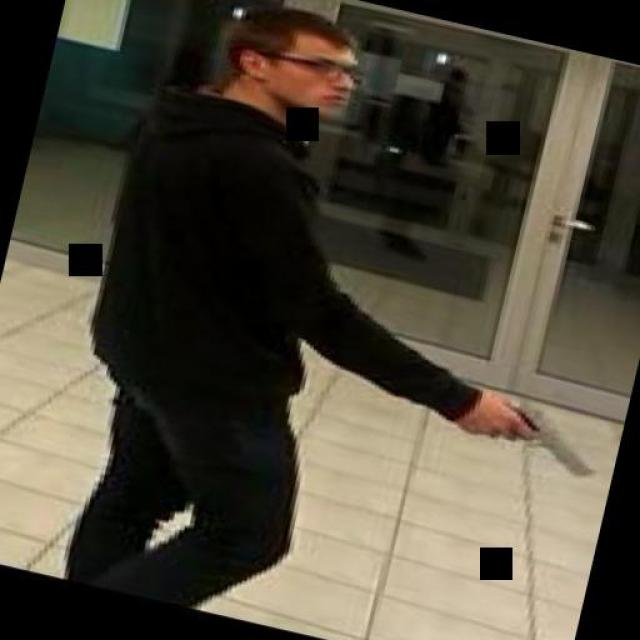gun: (460, 382, 606, 482)
